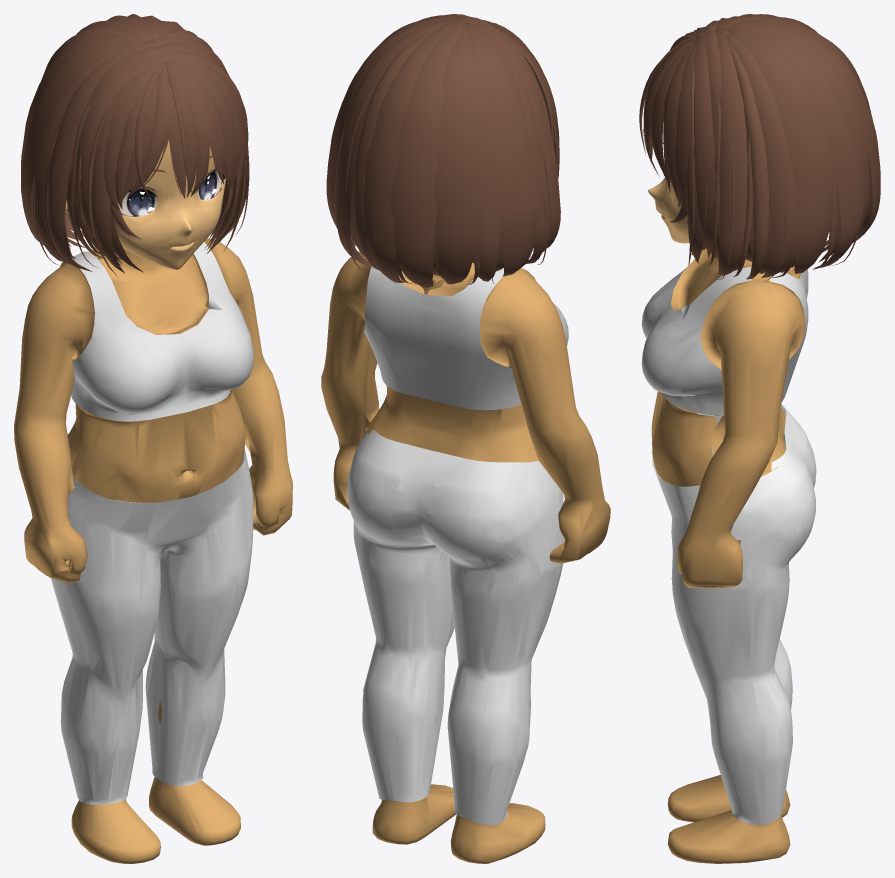
The model's file is Mii female Stage 2..glb.
The picture shows the model from 3 angles, left to right: view 1: azimuth 30°, elevation 25°; view 2: azimuth 150°, elevation 25°; view 3: azimuth 270°, elevation 25°; orthographic projection. The views are drawn at different scales.
Parts seen in each view (by area): view 1: Hair.003; view 2: Hair.003; view 3: Hair.003.
Boxes of the visible parts, left/top/right/bottom form: Hair.003: left=14, top=14, right=292, bottom=863; Hair.003: left=321, top=14, right=610, bottom=863; Hair.003: left=639, top=14, right=880, bottom=863.
Bounding box in the file's own units: 0.6326 × 1.89 × 0.5121.
Materials: 14 (7 with a texture image).
